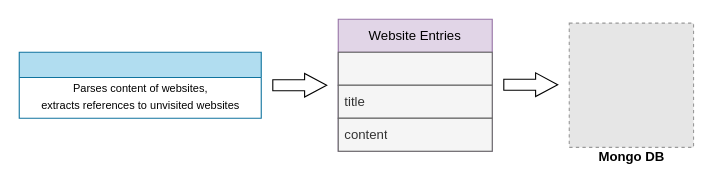
Some shapes in this 713 by 193 pixel diagram are drawn without their labels. Grey dashed boxes stand in for pictures. The shapes that lost their labels are listed below. From the top down, each one's box as (x1, y1, x2, y2) in pixels, then its label:
(18, 51, 261, 118): Webcrawler
(337, 51, 492, 85): url
